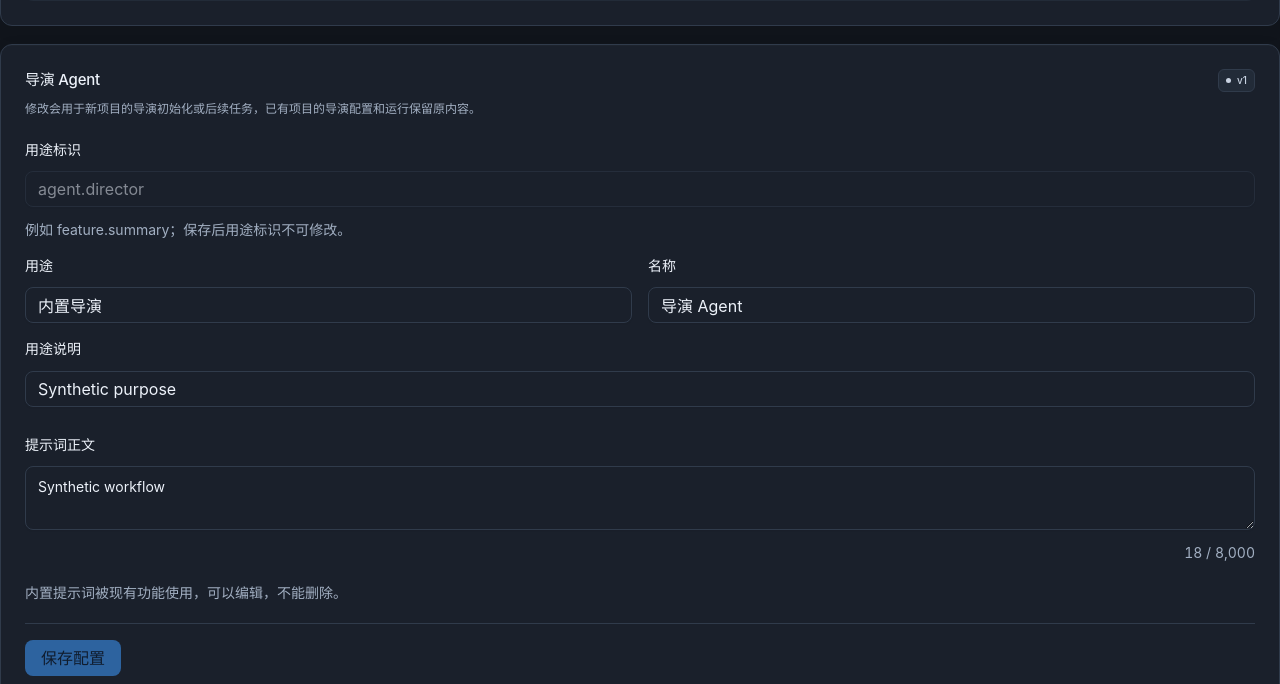
Test: PromptManagementSection › saves complete content with the pinned version
(page scrolled)
Replace the text in the text box labelled "提示词正文" with "Full creative workflow" at (640, 498), box [25, 466, 1255, 530]
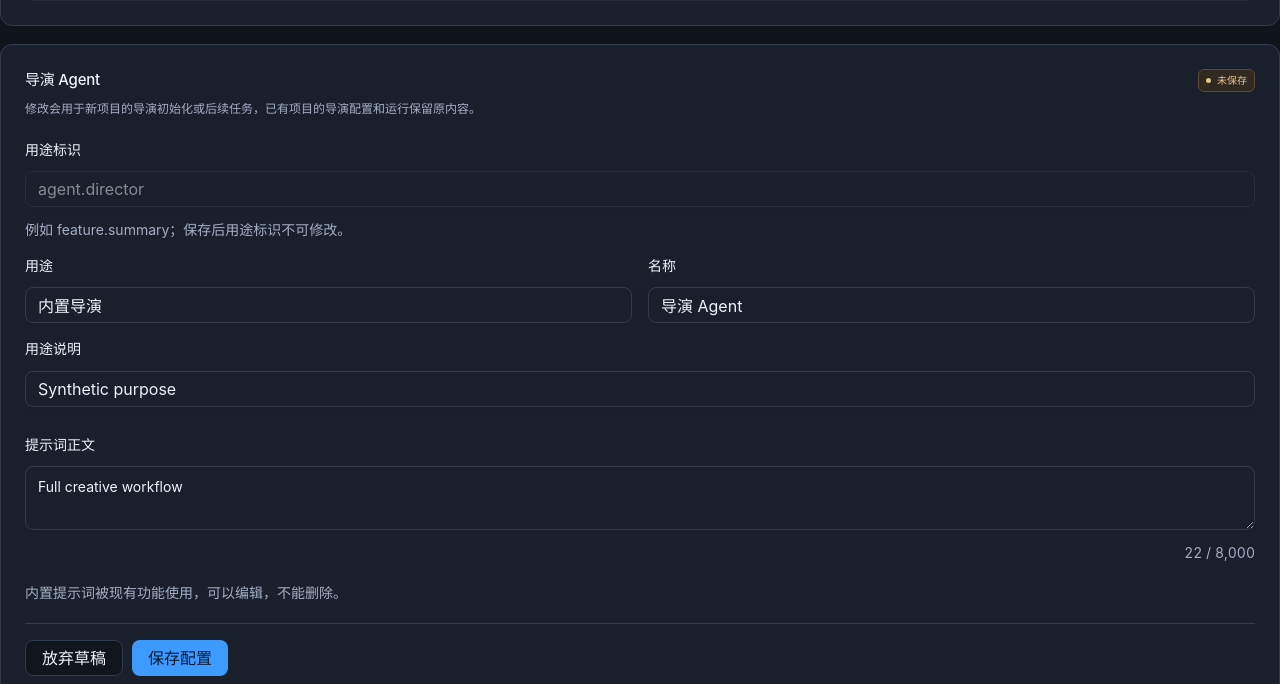
Click the button "保存配置".
click(180, 658)  # box [132, 640, 228, 676]
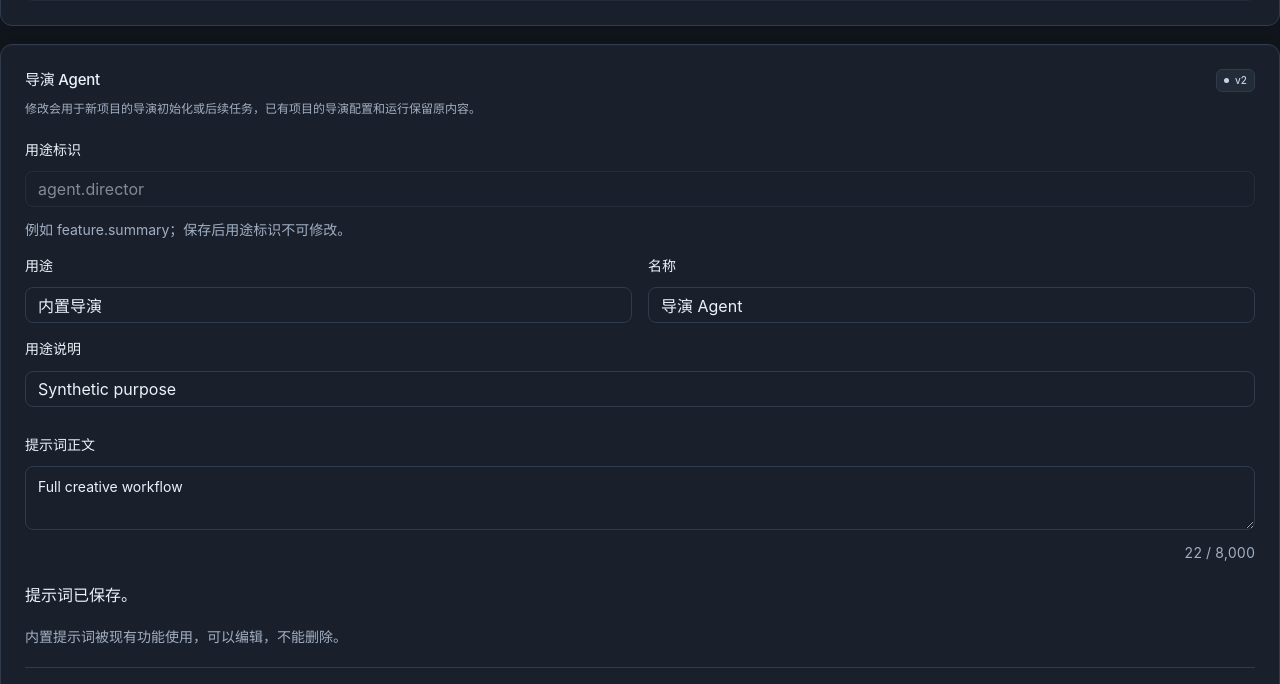
Expected: the text "提示词已保存。" is shown, [25, 585, 137, 605]
